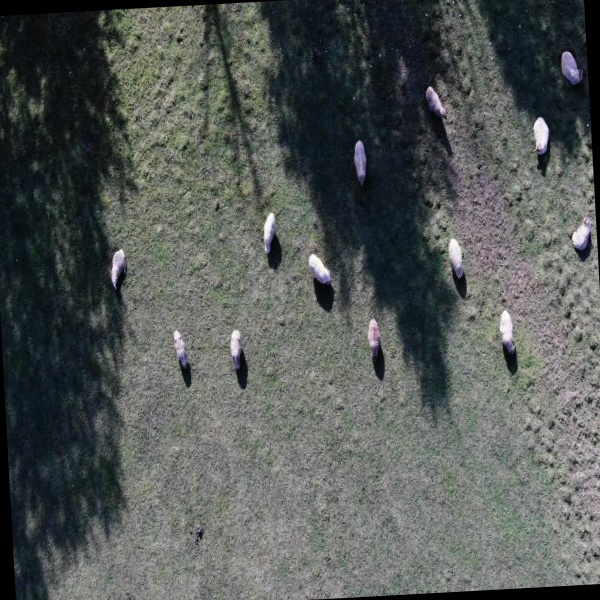sheep: (444, 228, 473, 291), (162, 317, 195, 372), (107, 242, 139, 293), (495, 300, 521, 361), (302, 246, 334, 293), (526, 114, 552, 164), (224, 318, 246, 373), (260, 203, 281, 257), (351, 132, 370, 189), (557, 40, 581, 84), (421, 77, 446, 117), (566, 212, 591, 252), (365, 312, 387, 353)
